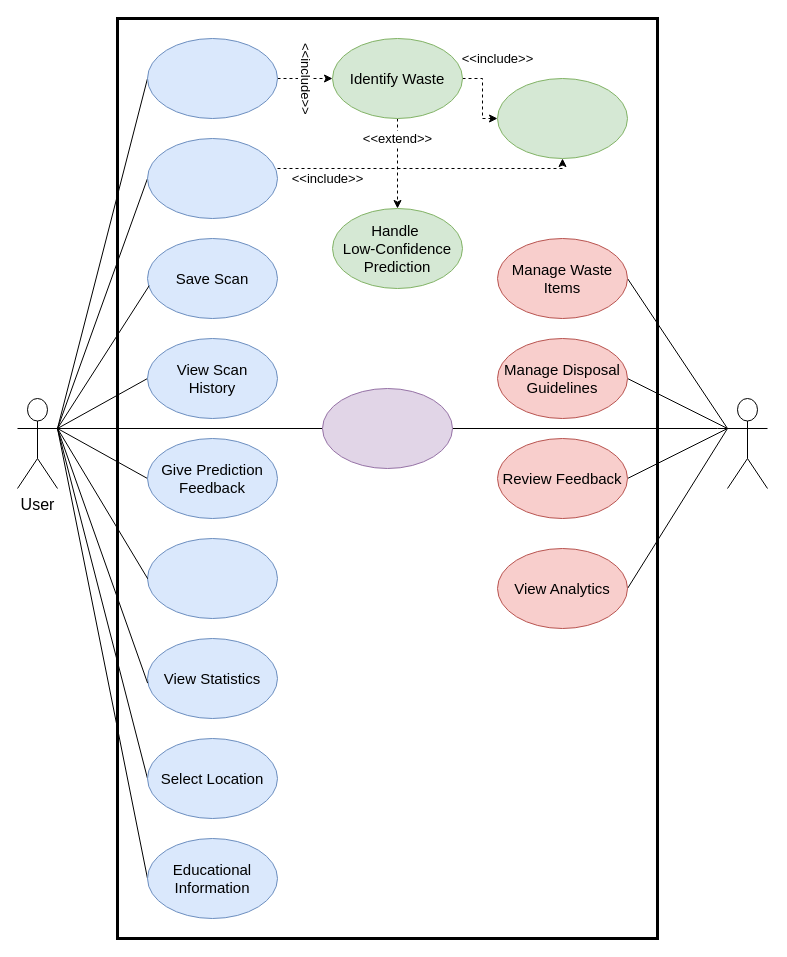
This 787x957 diagram has some shape labels left out. Each missing label, with the centre of its shape:
Admin: point (747, 443)
Ask Chatbot: point (212, 578)
Login/Register: point (387, 428)
Manual Search: point (212, 178)
Scan Waste: point (212, 78)
View Disposal Guidance: point (562, 118)
